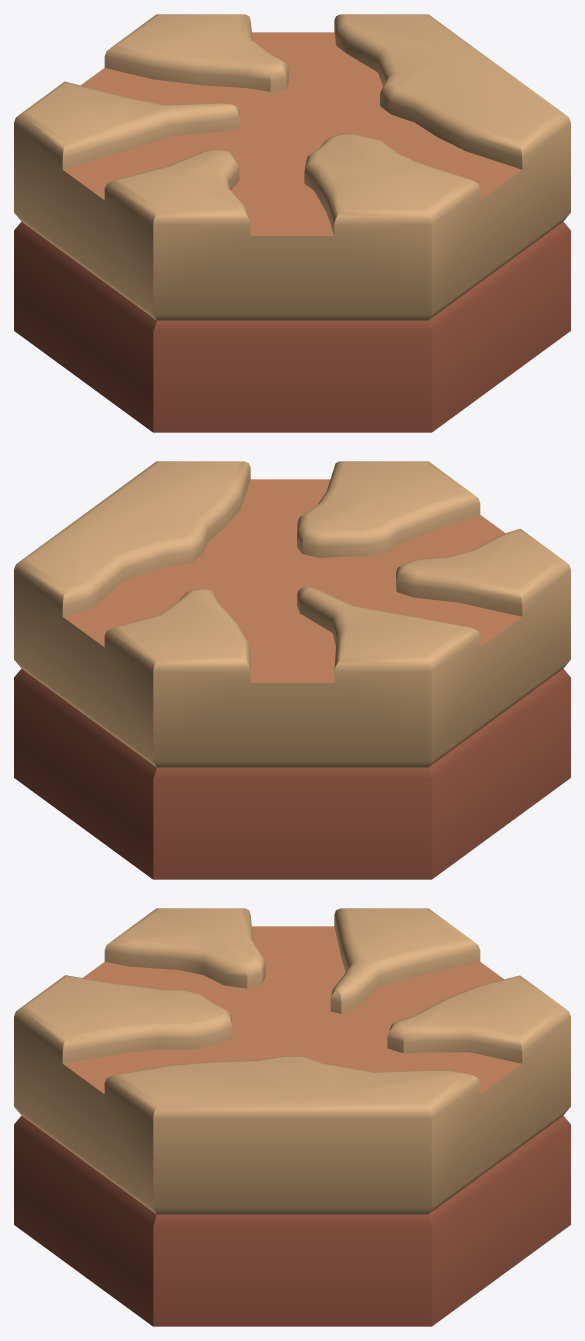
File: hex_sand_roadL_detail.glb
The picture shows the model from 3 angles, top to bottom: view 1: azimuth 30°, elevation 25°; view 2: azimuth 150°, elevation 25°; view 3: azimuth 270°, elevation 25°; orthographic projection.
Visible parts, largest first — view 1: hex_sand_roadL_detail; view 2: hex_sand_roadL_detail; view 3: hex_sand_roadL_detail.
Boxes of the visible parts, x1,y1,x2,y2 form: hex_sand_roadL_detail: (14,14,570,432); hex_sand_roadL_detail: (14,461,570,879); hex_sand_roadL_detail: (14,908,570,1326).
Bounding box in the file's own units: 3.82 × 1.91 × 4.41.
